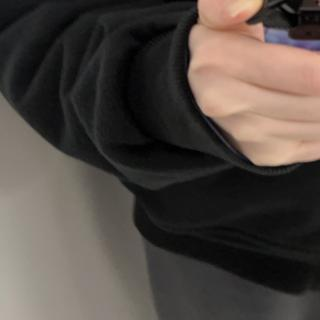fire: (312, 0, 320, 5)
